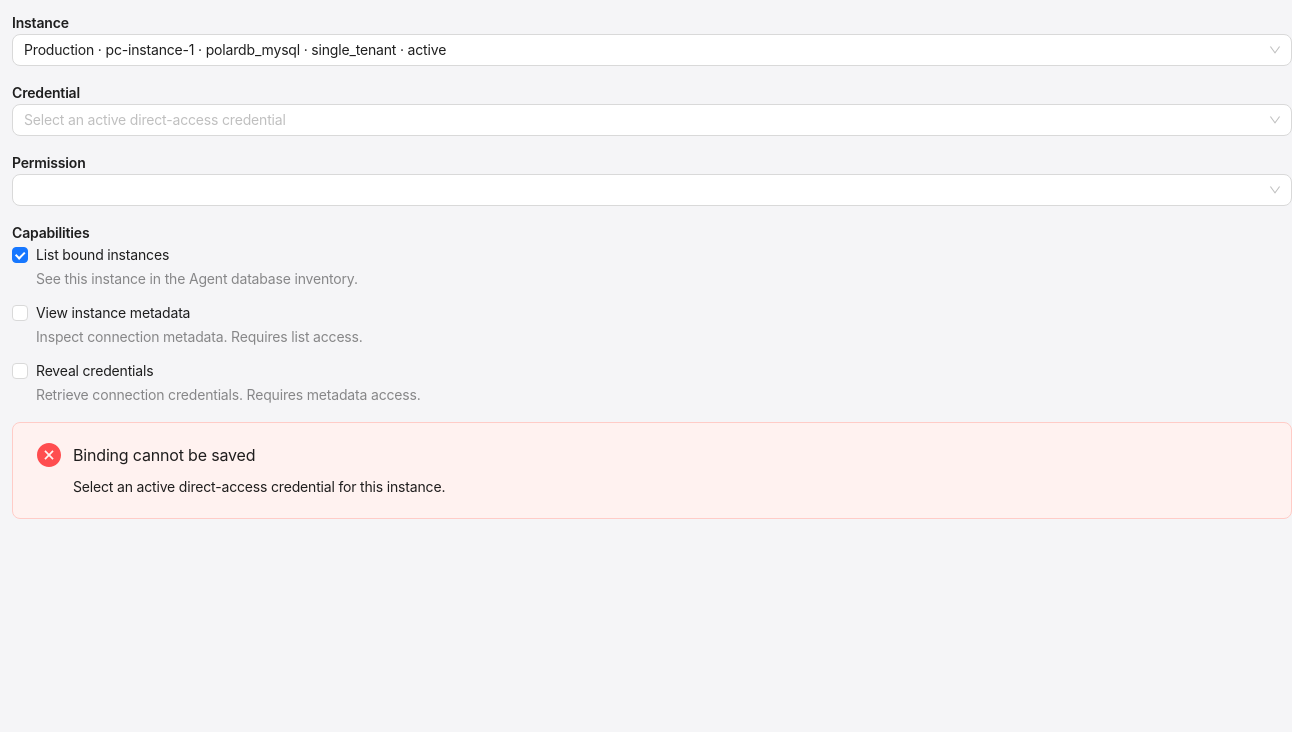
Scenario: BindingEditor › enables SQL proxy by default when aggregate direct access first selects a credential
Click the dropdown named "direct access credential" at {"x": 155, "y": 120}, box [24,111,286,128]
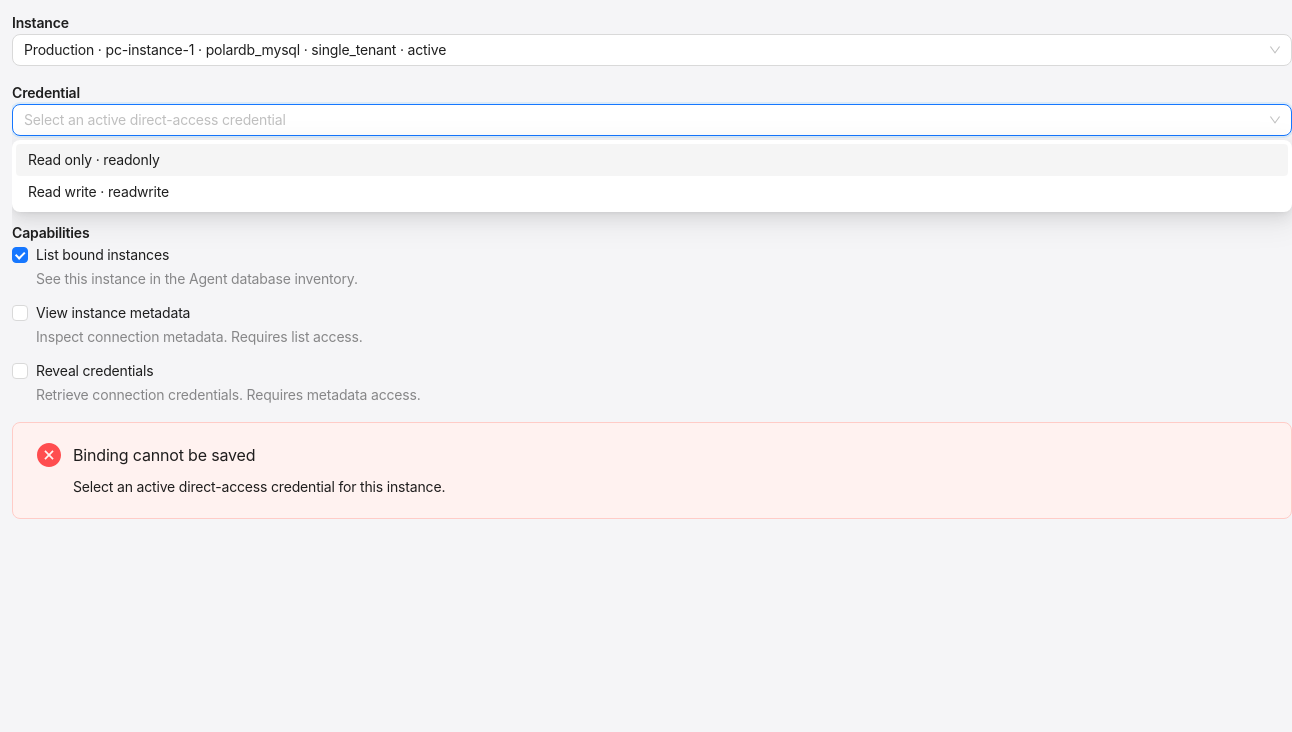
Click the text "Read only · readonly" at {"x": 94, "y": 160}, box [28,151,160,168]
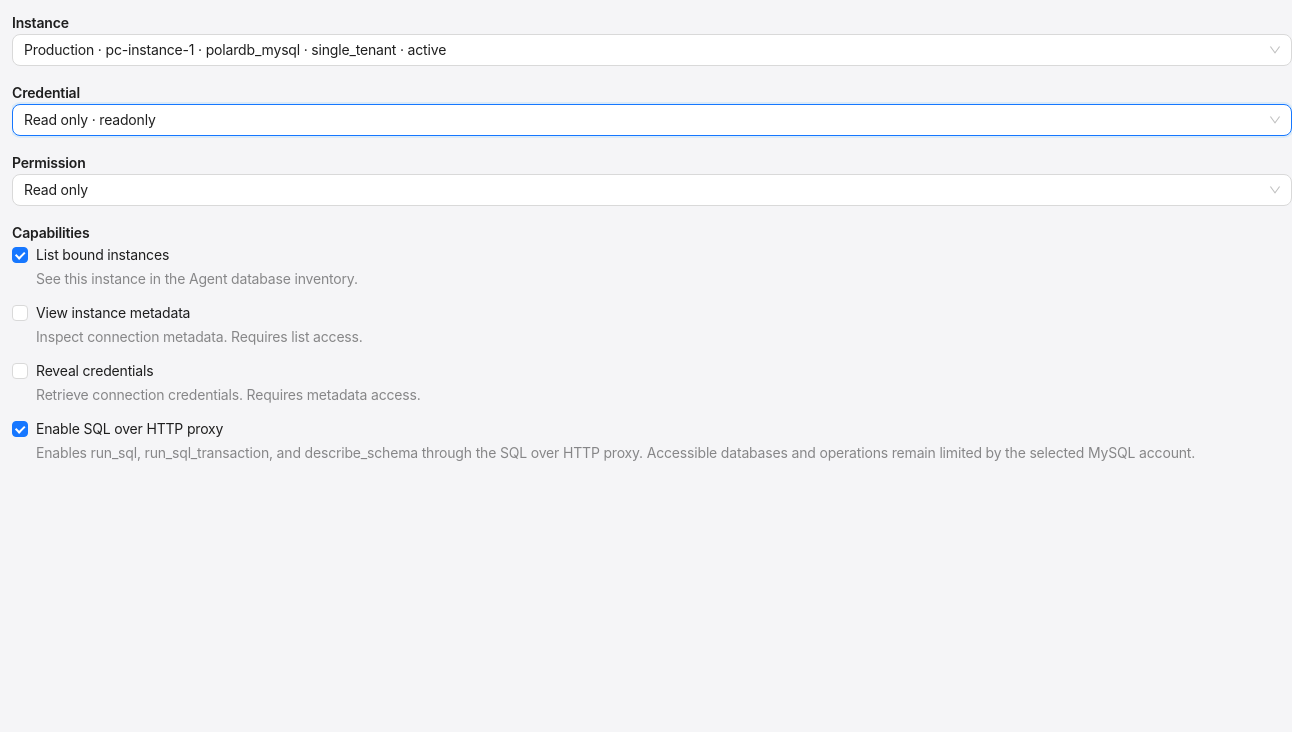
Expected: the checkbox labelled "Enable SQL over HTTP proxy" is checked, [12,420,223,437]
